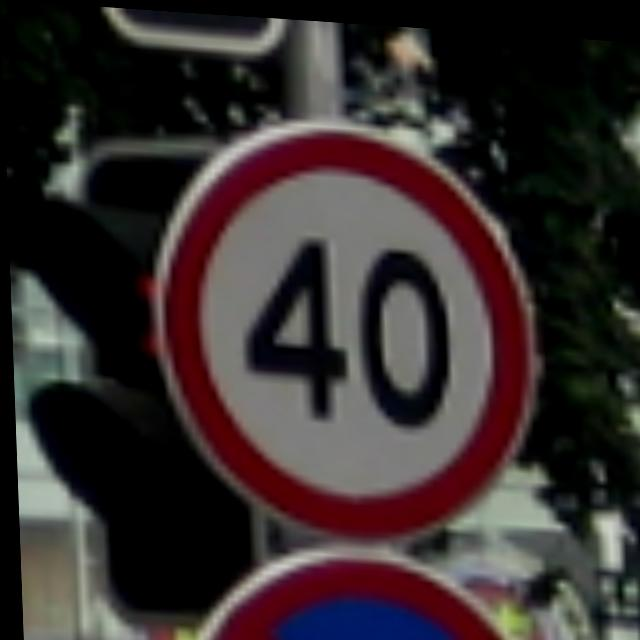limit40: (139, 98, 557, 547)
